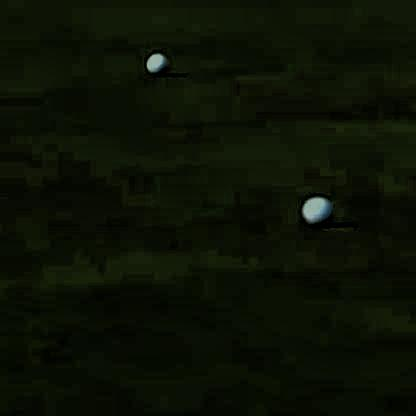golfball: (298, 193, 329, 223)
